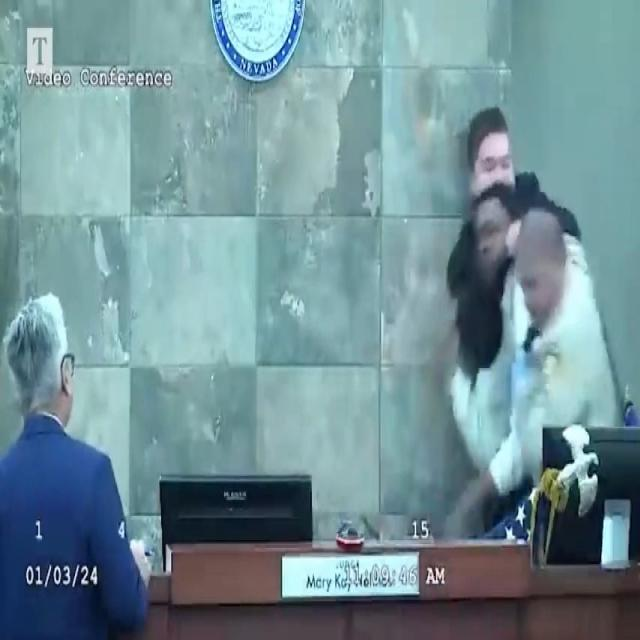fight: (440, 99, 640, 551)
non-fight: (0, 280, 158, 640)
